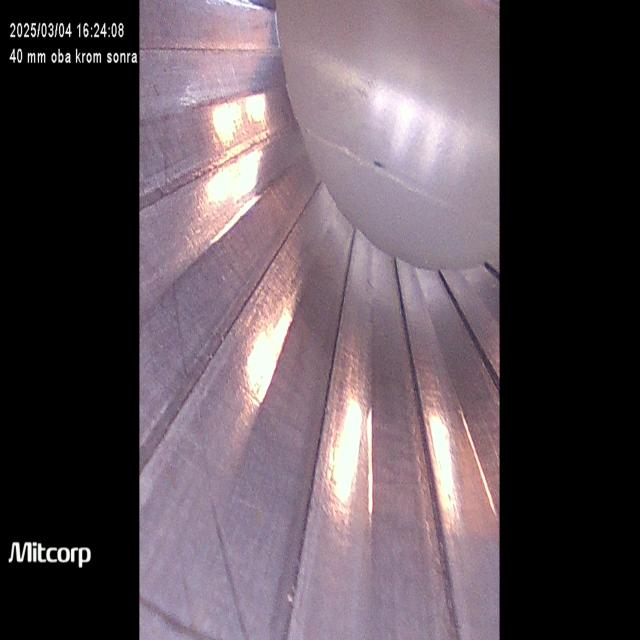hata_8.1: (164, 284, 275, 640), (149, 96, 185, 197)
